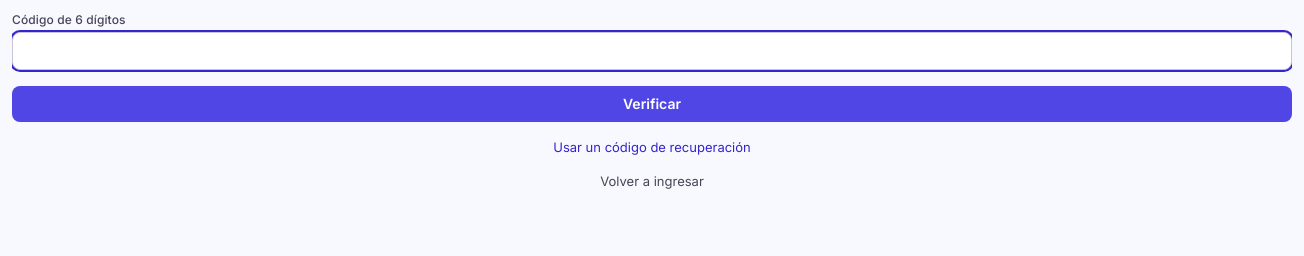
it: MfaForm › tells a user with no tenants that an administrator must assign one
The width and height of the screenshot is (1304, 256).
Type "123456" into the field labelled "Código de 6 dígitos" at (652, 51), box [12,32,1292,70]
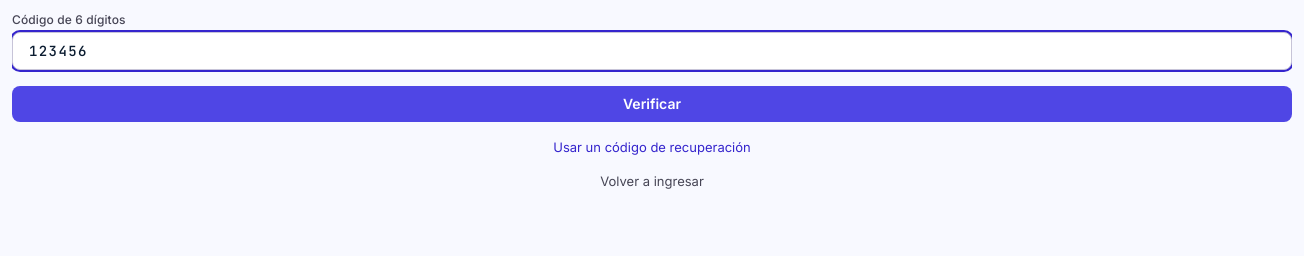
Click the button "Verificar" at (652, 104), box [12,86,1292,122]
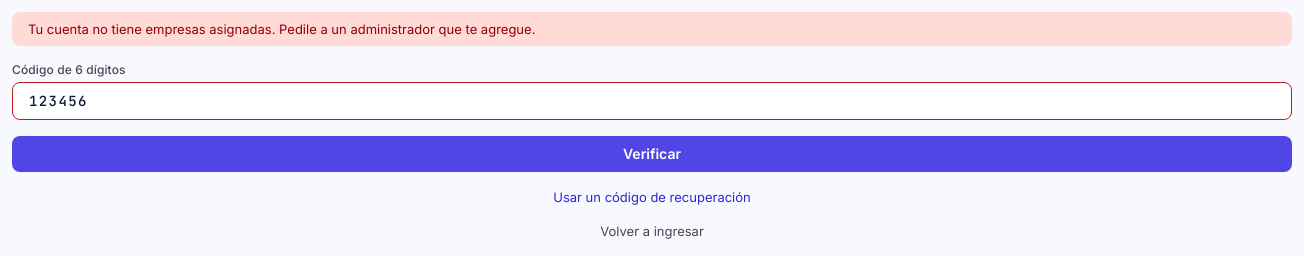
Check: the message shows "no tiene empresas", box [28,21,535,37]
